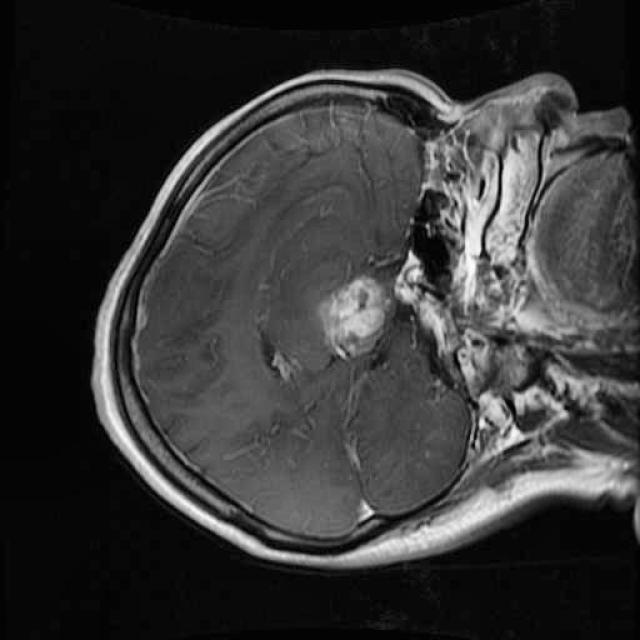Tumor: (308, 260, 400, 375)
